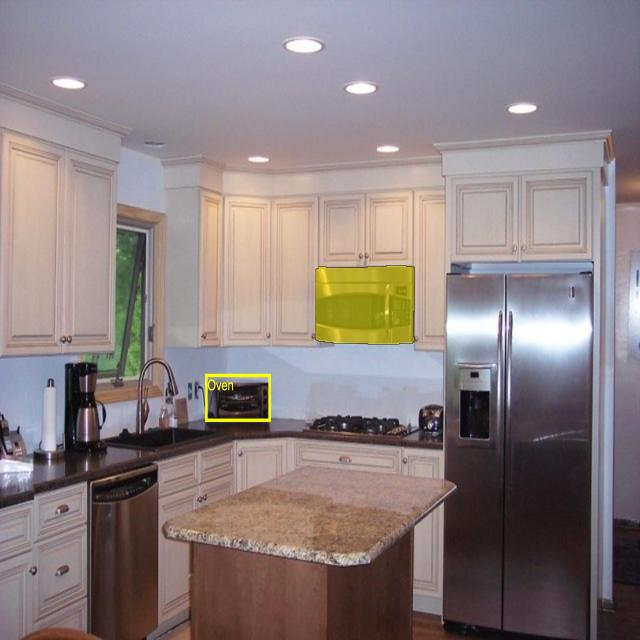dishwasher: (88, 466, 159, 638)
